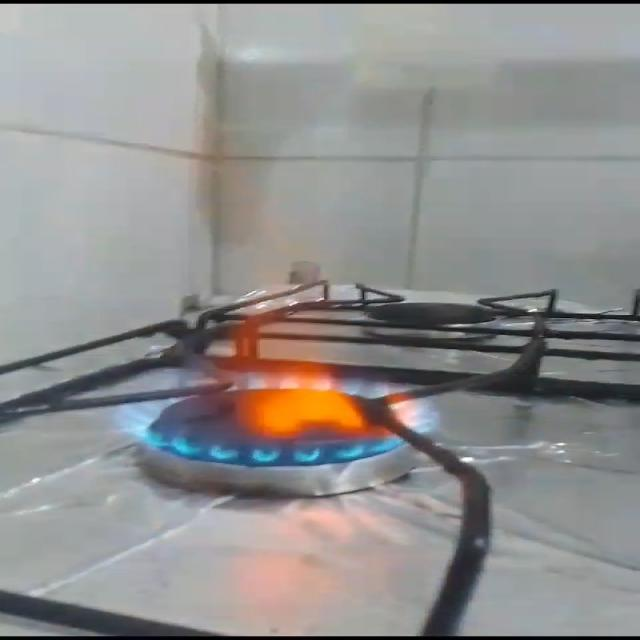fogo-ypXI: (111, 235, 448, 476)
